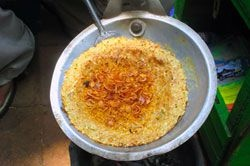kerak_telor: (56, 39, 194, 144)
